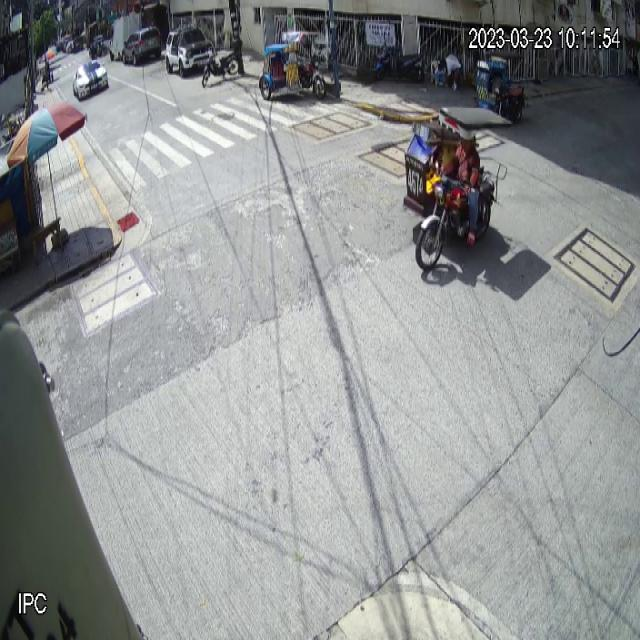Tricycle: (403, 103, 513, 271), (258, 28, 328, 100)
